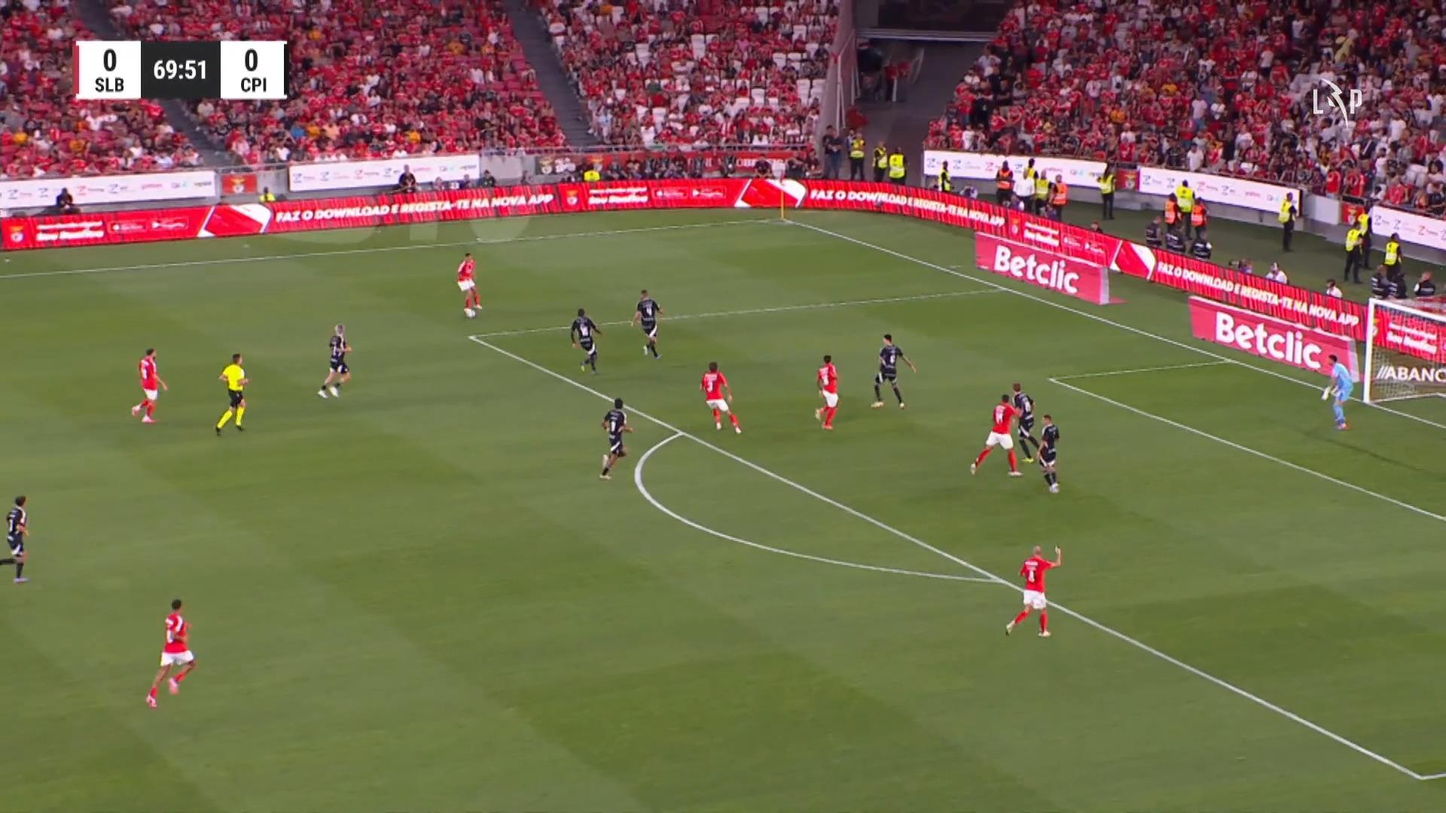ball: (130, 405, 139, 416)
goalkeeper: (1320, 352, 1353, 430)
player: (145, 598, 196, 708), (1004, 544, 1062, 637), (969, 393, 1023, 477), (870, 332, 916, 409), (700, 361, 742, 434), (130, 347, 169, 423), (598, 397, 633, 479), (316, 323, 352, 398), (4, 494, 31, 583), (630, 289, 664, 359), (569, 307, 602, 374), (1011, 382, 1037, 462), (813, 353, 839, 429), (1036, 413, 1060, 492), (456, 251, 483, 318), (1277, 191, 1298, 251)
referee: (214, 352, 249, 435)
